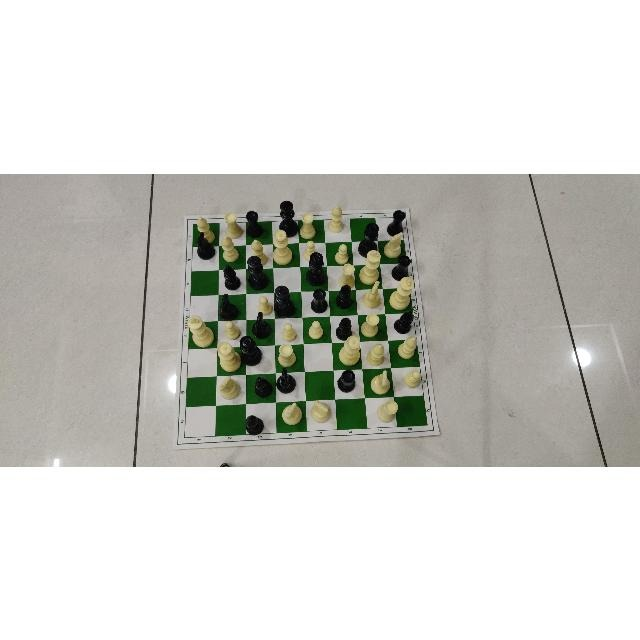black-bishop: (394, 310, 413, 334), (223, 263, 240, 289), (254, 374, 274, 396), (243, 414, 264, 434), (336, 283, 352, 308), (336, 317, 351, 339)
black-king: (247, 256, 267, 290), (275, 284, 295, 317), (280, 200, 298, 236)
black-knight: (275, 366, 297, 393), (218, 292, 240, 319), (251, 311, 272, 339), (196, 231, 215, 258)
black-queen: (358, 222, 379, 256), (239, 335, 262, 365), (307, 251, 327, 284)
black-rook: (244, 209, 263, 237), (310, 286, 329, 313), (386, 209, 405, 235), (392, 254, 410, 281), (337, 368, 355, 391)
white-bishop: (196, 215, 216, 245), (249, 236, 269, 266), (365, 341, 386, 366), (327, 204, 344, 234), (222, 234, 240, 262), (398, 334, 418, 358)
white-king: (187, 314, 215, 346), (390, 274, 414, 309), (360, 248, 381, 283)
white-knight: (360, 280, 384, 308), (279, 401, 305, 426), (218, 375, 243, 401), (381, 232, 406, 257), (307, 400, 332, 424), (369, 369, 392, 395)
white-pawn: (302, 238, 322, 261), (255, 292, 275, 315), (305, 318, 326, 339), (403, 368, 423, 388), (333, 241, 350, 263), (280, 322, 298, 342), (222, 320, 241, 337)
white-queen: (272, 229, 294, 264), (339, 334, 361, 365), (218, 342, 241, 371)
white-rook: (376, 398, 399, 422), (223, 211, 242, 238), (278, 343, 298, 366), (361, 313, 380, 337), (300, 211, 316, 239), (339, 261, 355, 288)
